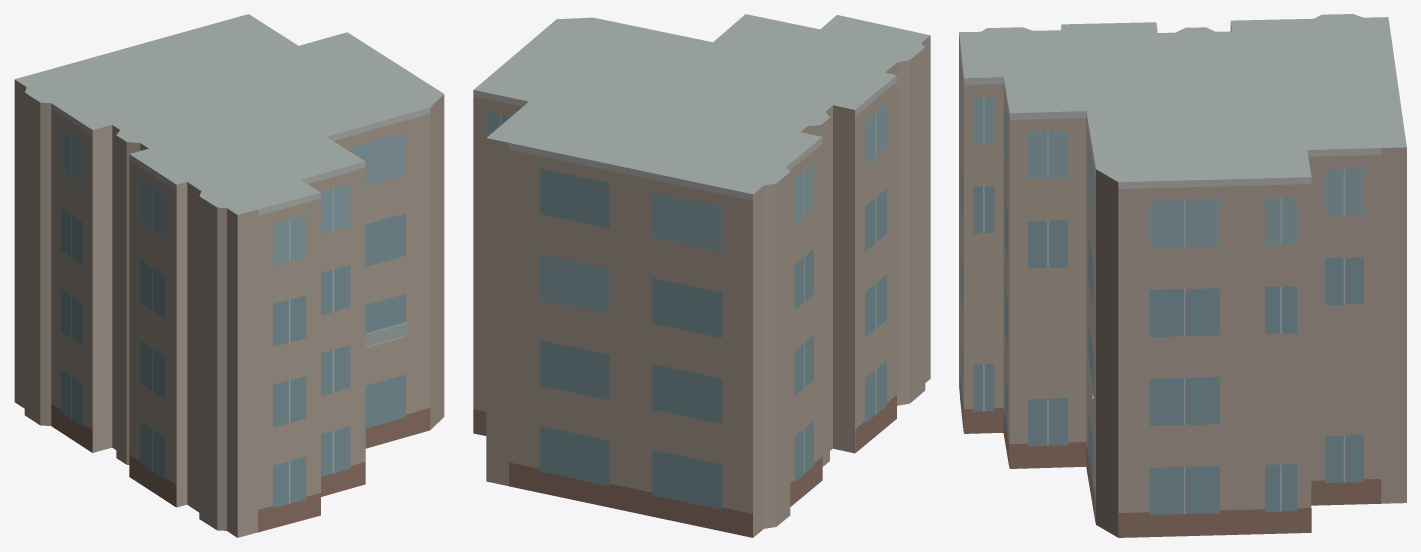
File: survey-upis-32636776.glb
The picture shows the model from 3 angles, left to right: view 1: azimuth 30°, elevation 25°; view 2: azimuth 150°, elevation 25°; view 3: azimuth 270°, elevation 25°; orthographic projection. The views are drawn at different scales.
Visible parts, largest first — view 1: survey-upis-32636776.tmp; view 2: survey-upis-32636776.tmp; view 3: survey-upis-32636776.tmp.
Part boxes in pixels (<box>): survey-upis-32636776.tmp: <box>14,14,444,537</box>; survey-upis-32636776.tmp: <box>473,14,930,537</box>; survey-upis-32636776.tmp: <box>959,14,1406,537</box>.
Size of the model in its own units: 12.89 by 12.7 by 14.49.
